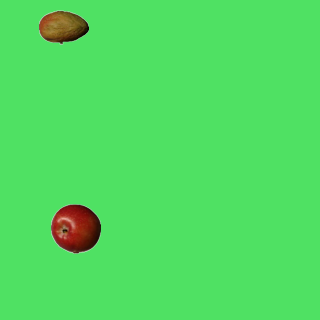Apple Braeburn: (50, 203, 100, 253)
Papaya: (38, 2, 88, 52)
